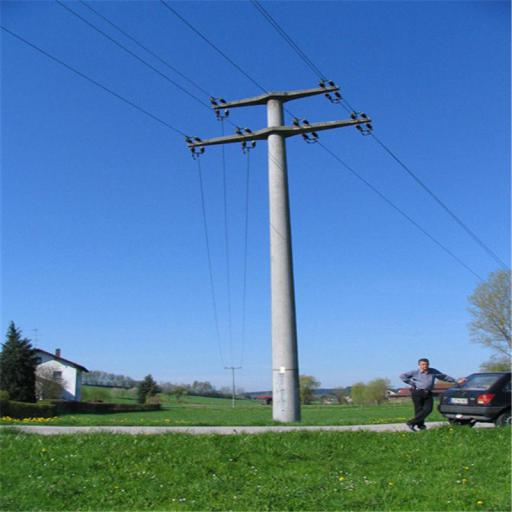mono_8: (183, 80, 372, 424)
